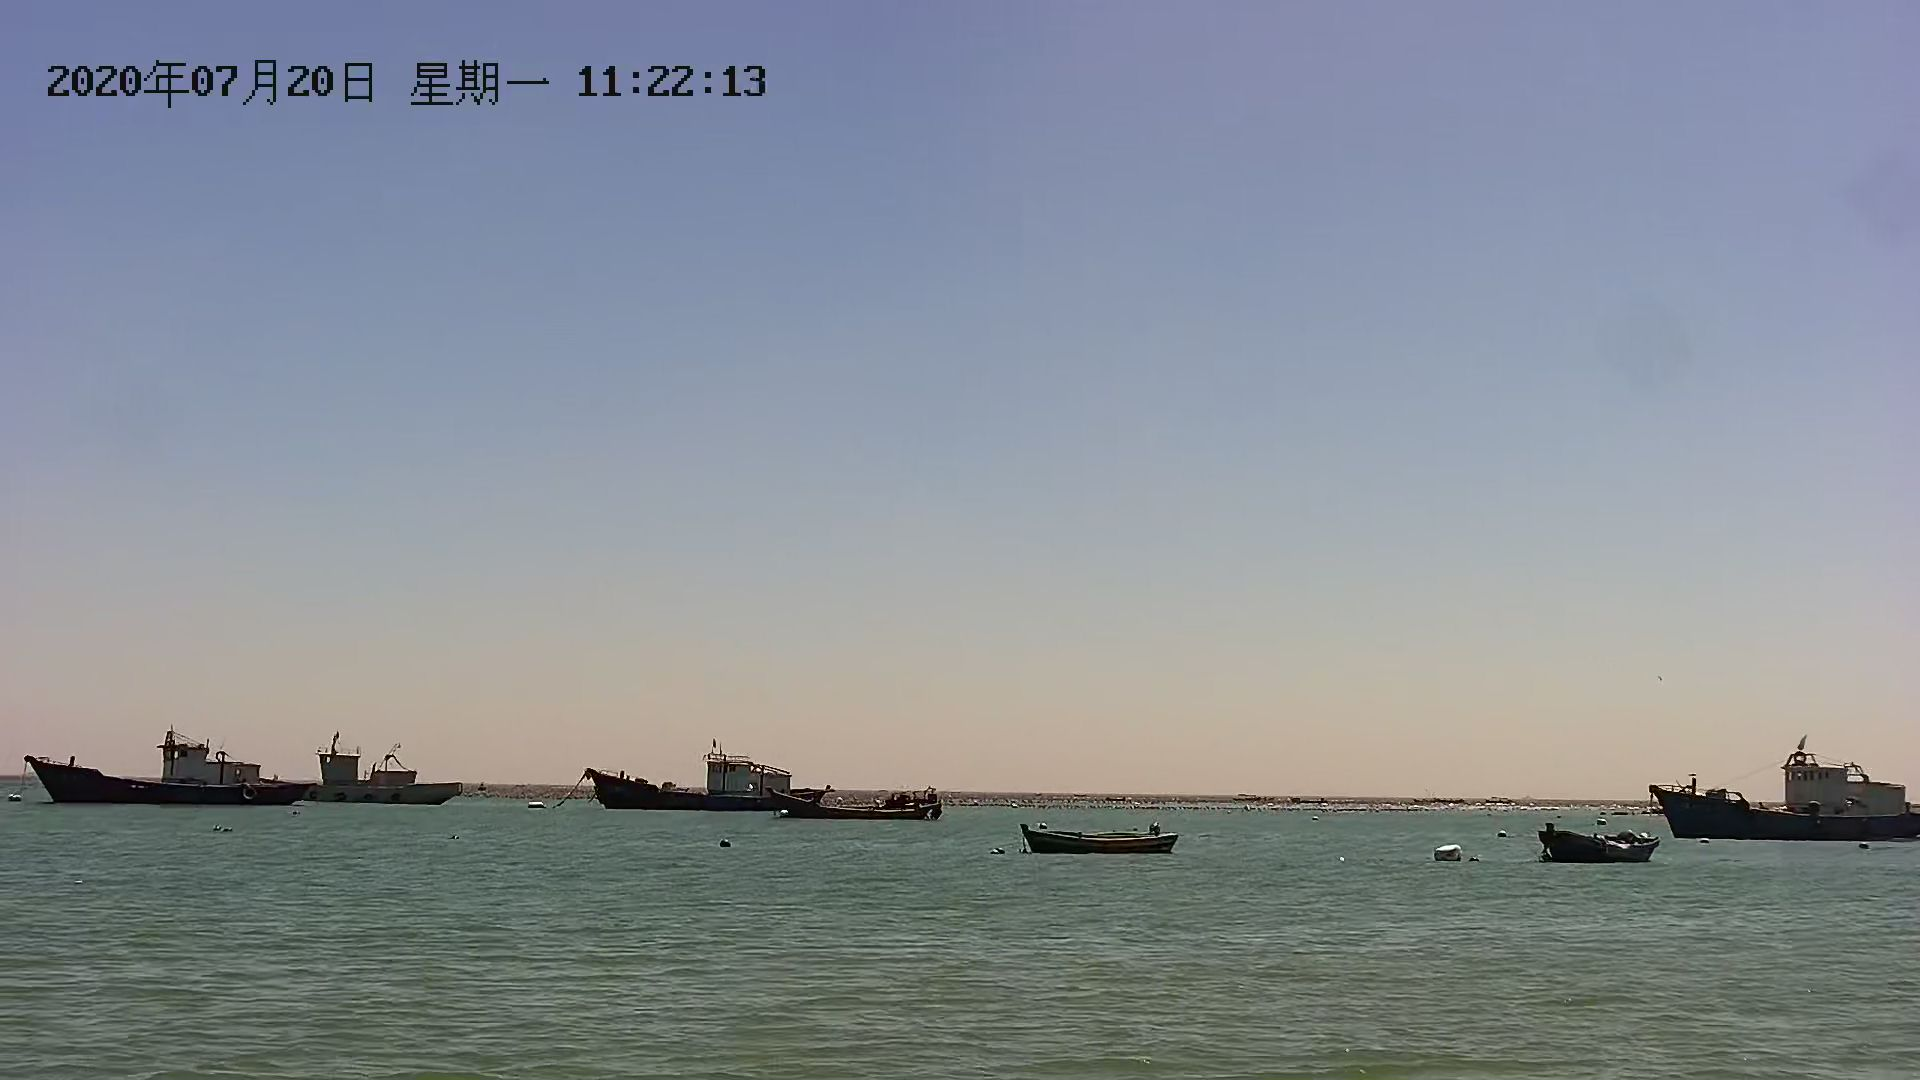ball: (1431, 837, 1470, 866)
boat: (1644, 742, 1920, 852), (17, 727, 305, 800), (562, 756, 829, 815), (276, 742, 483, 804), (764, 787, 951, 829), (1007, 820, 1185, 862), (1532, 818, 1671, 865)
